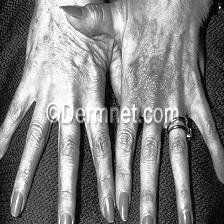Benign Marking or Mole: (134, 59, 171, 105), (50, 21, 55, 31), (47, 7, 49, 12)
